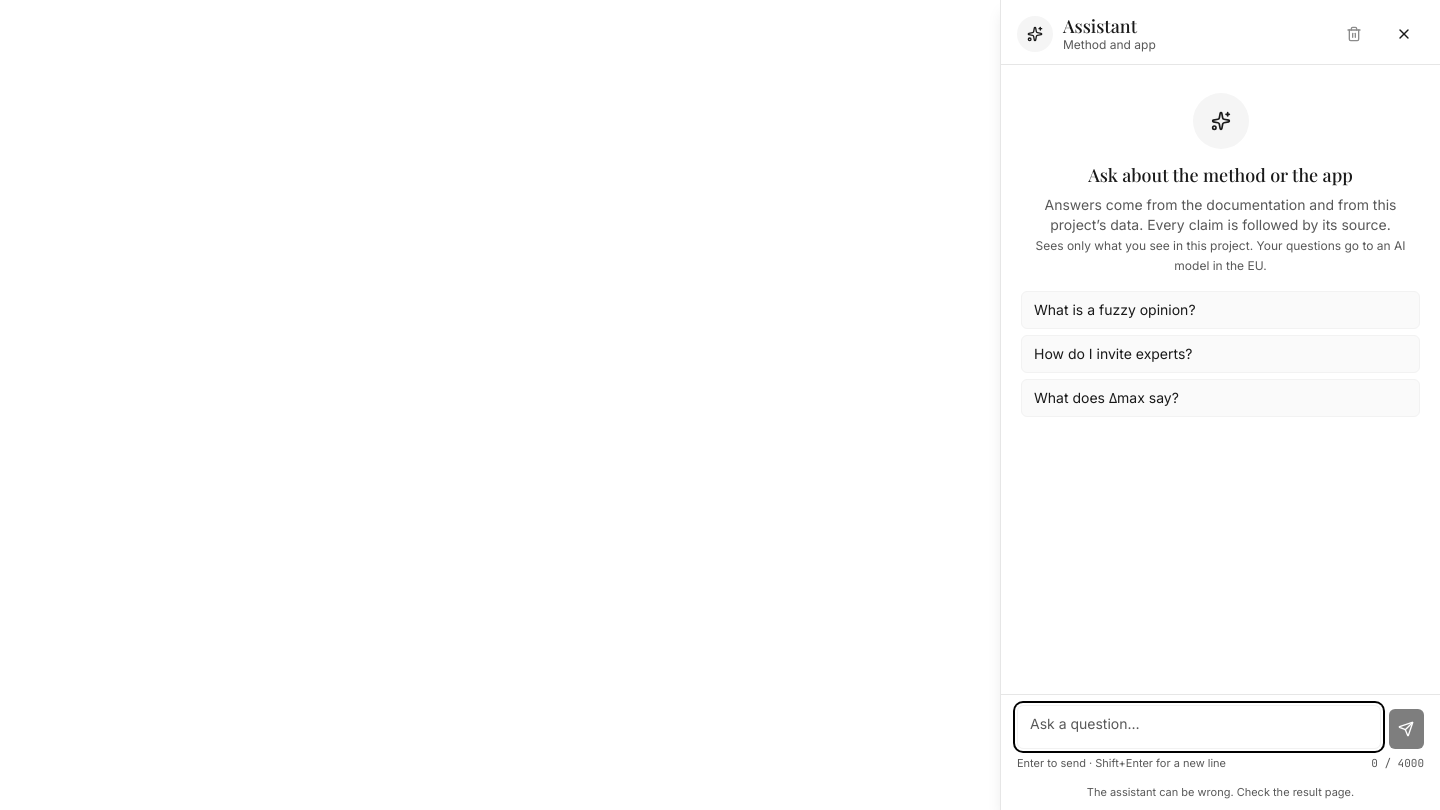
Test: AssistantPanel with the chat hook › keeps the sheet open on Escape while the answer is on its way, and stops it with Stop
The image size is (1440, 810).
Type "Slow one" into the text box labelled "Ask a question…".
click(1199, 727); type("Slow one")  # box [1017,705,1381,749]
Then press Enter
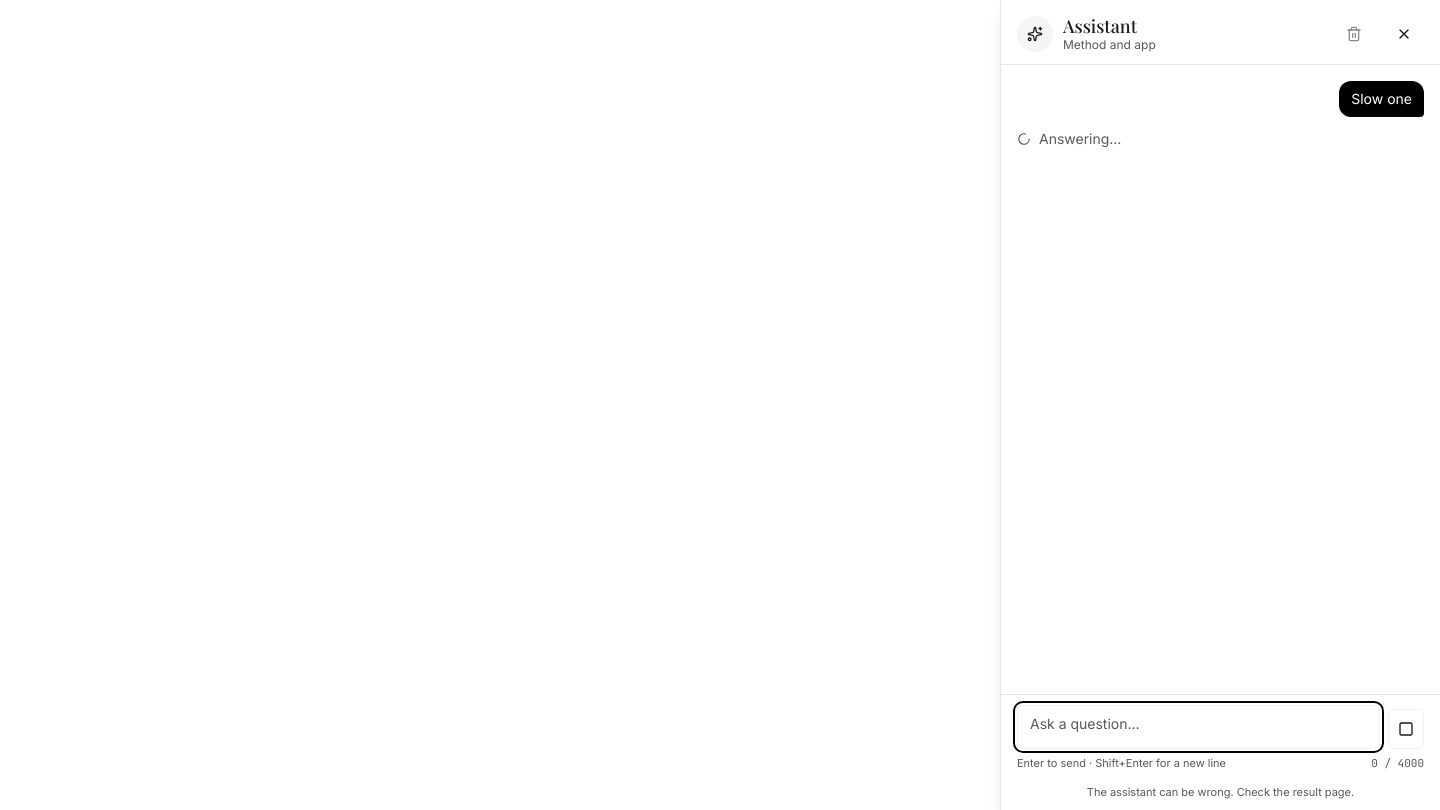
Now the button named "Stop" is shown, box [1388,709,1424,749]
Press Escape
Now the button named "Stop" is shown
Click the button named "Stop".
click(1406, 729)  # box [1388,709,1424,749]
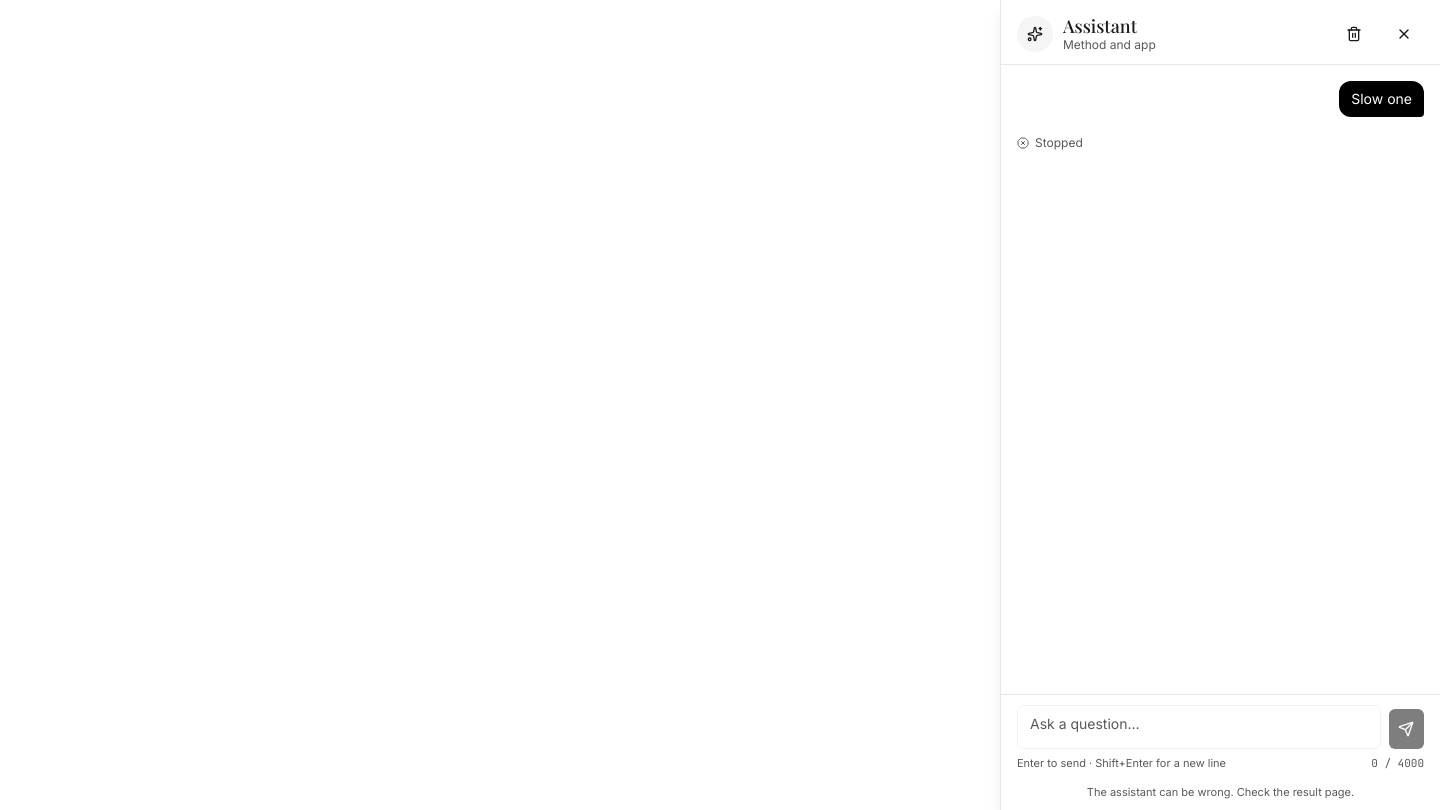
Now the text "Stopped" is shown, box [1035,135,1083,151]
Now the button named "Send" is shown, box [1389,709,1424,749]
